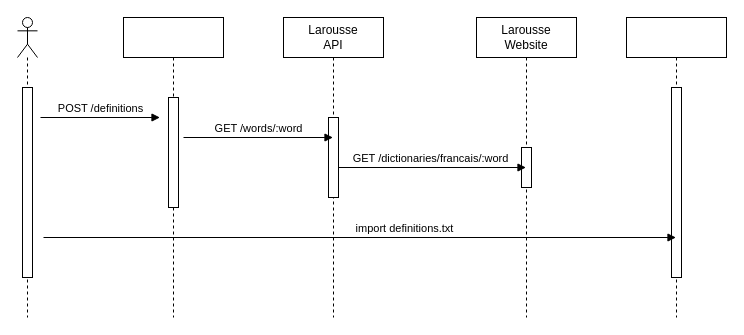
Image size: 744x335. Some labels were removed from this diagram. Each missing label, with the box of its shape:
Anki: (626, 16, 726, 318)
Definitions API: (122, 16, 224, 318)
